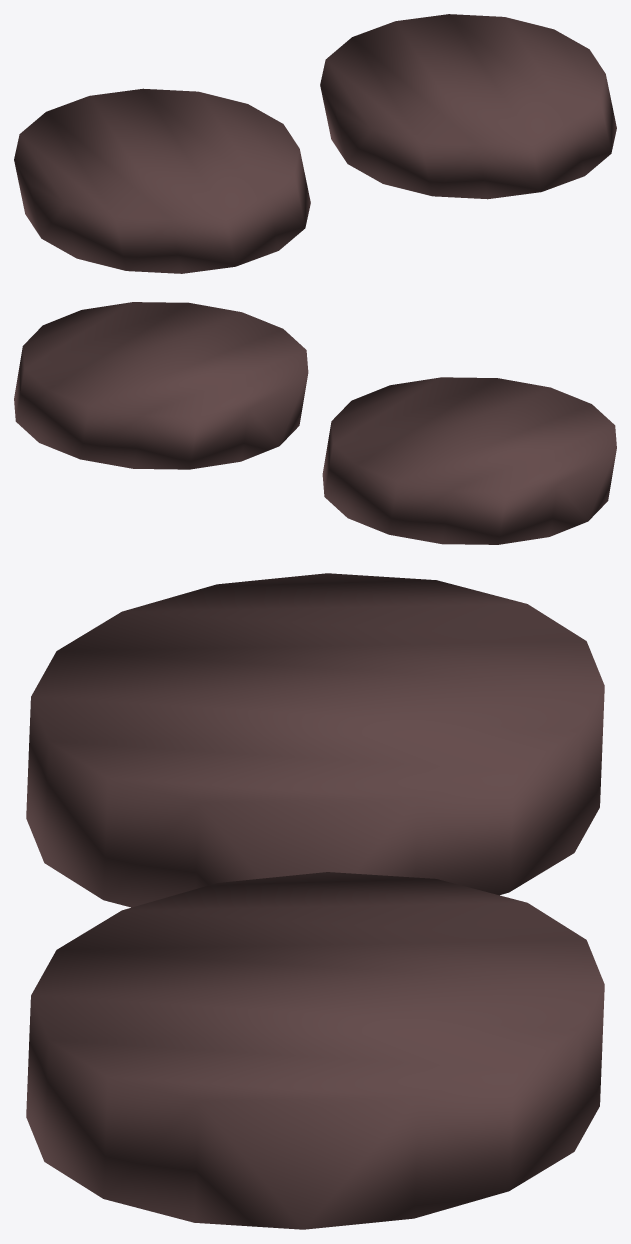
Rendered from asset2_back.glb.
The picture shows the model from 3 angles, top to bottom: view 1: azimuth 30°, elevation 25°; view 2: azimuth 150°, elevation 25°; view 3: azimuth 270°, elevation 25°; orthographic projection. The views are drawn at different scales.
Parts seen in each view (by area): view 1: Cylinder8_copy14; view 2: Cylinder8_copy14; view 3: Cylinder8_copy14.
Part boxes in pixels (left/top/right/bottom): Cylinder8_copy14: left=14, top=14, right=616, bottom=273; Cylinder8_copy14: left=14, top=302, right=616, bottom=544; Cylinder8_copy14: left=26, top=573, right=604, bottom=1229.
Size of the model in its own units: 0.1861 by 0.0208 by 0.0826.
